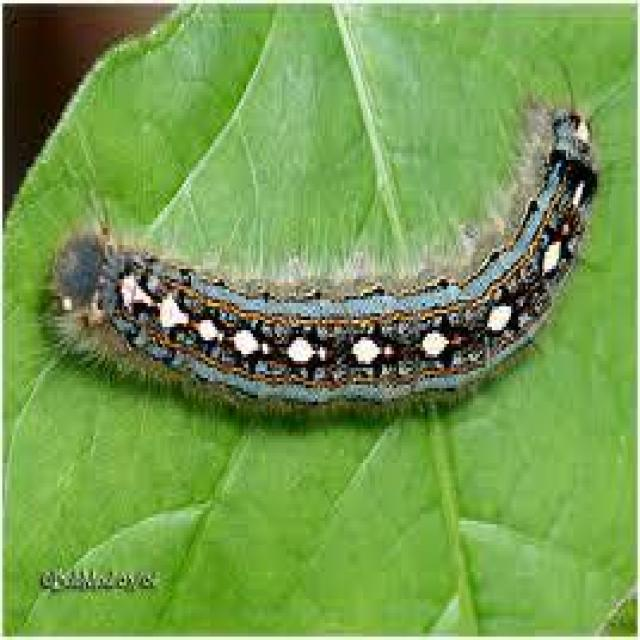armyworm: (30, 93, 639, 426)
